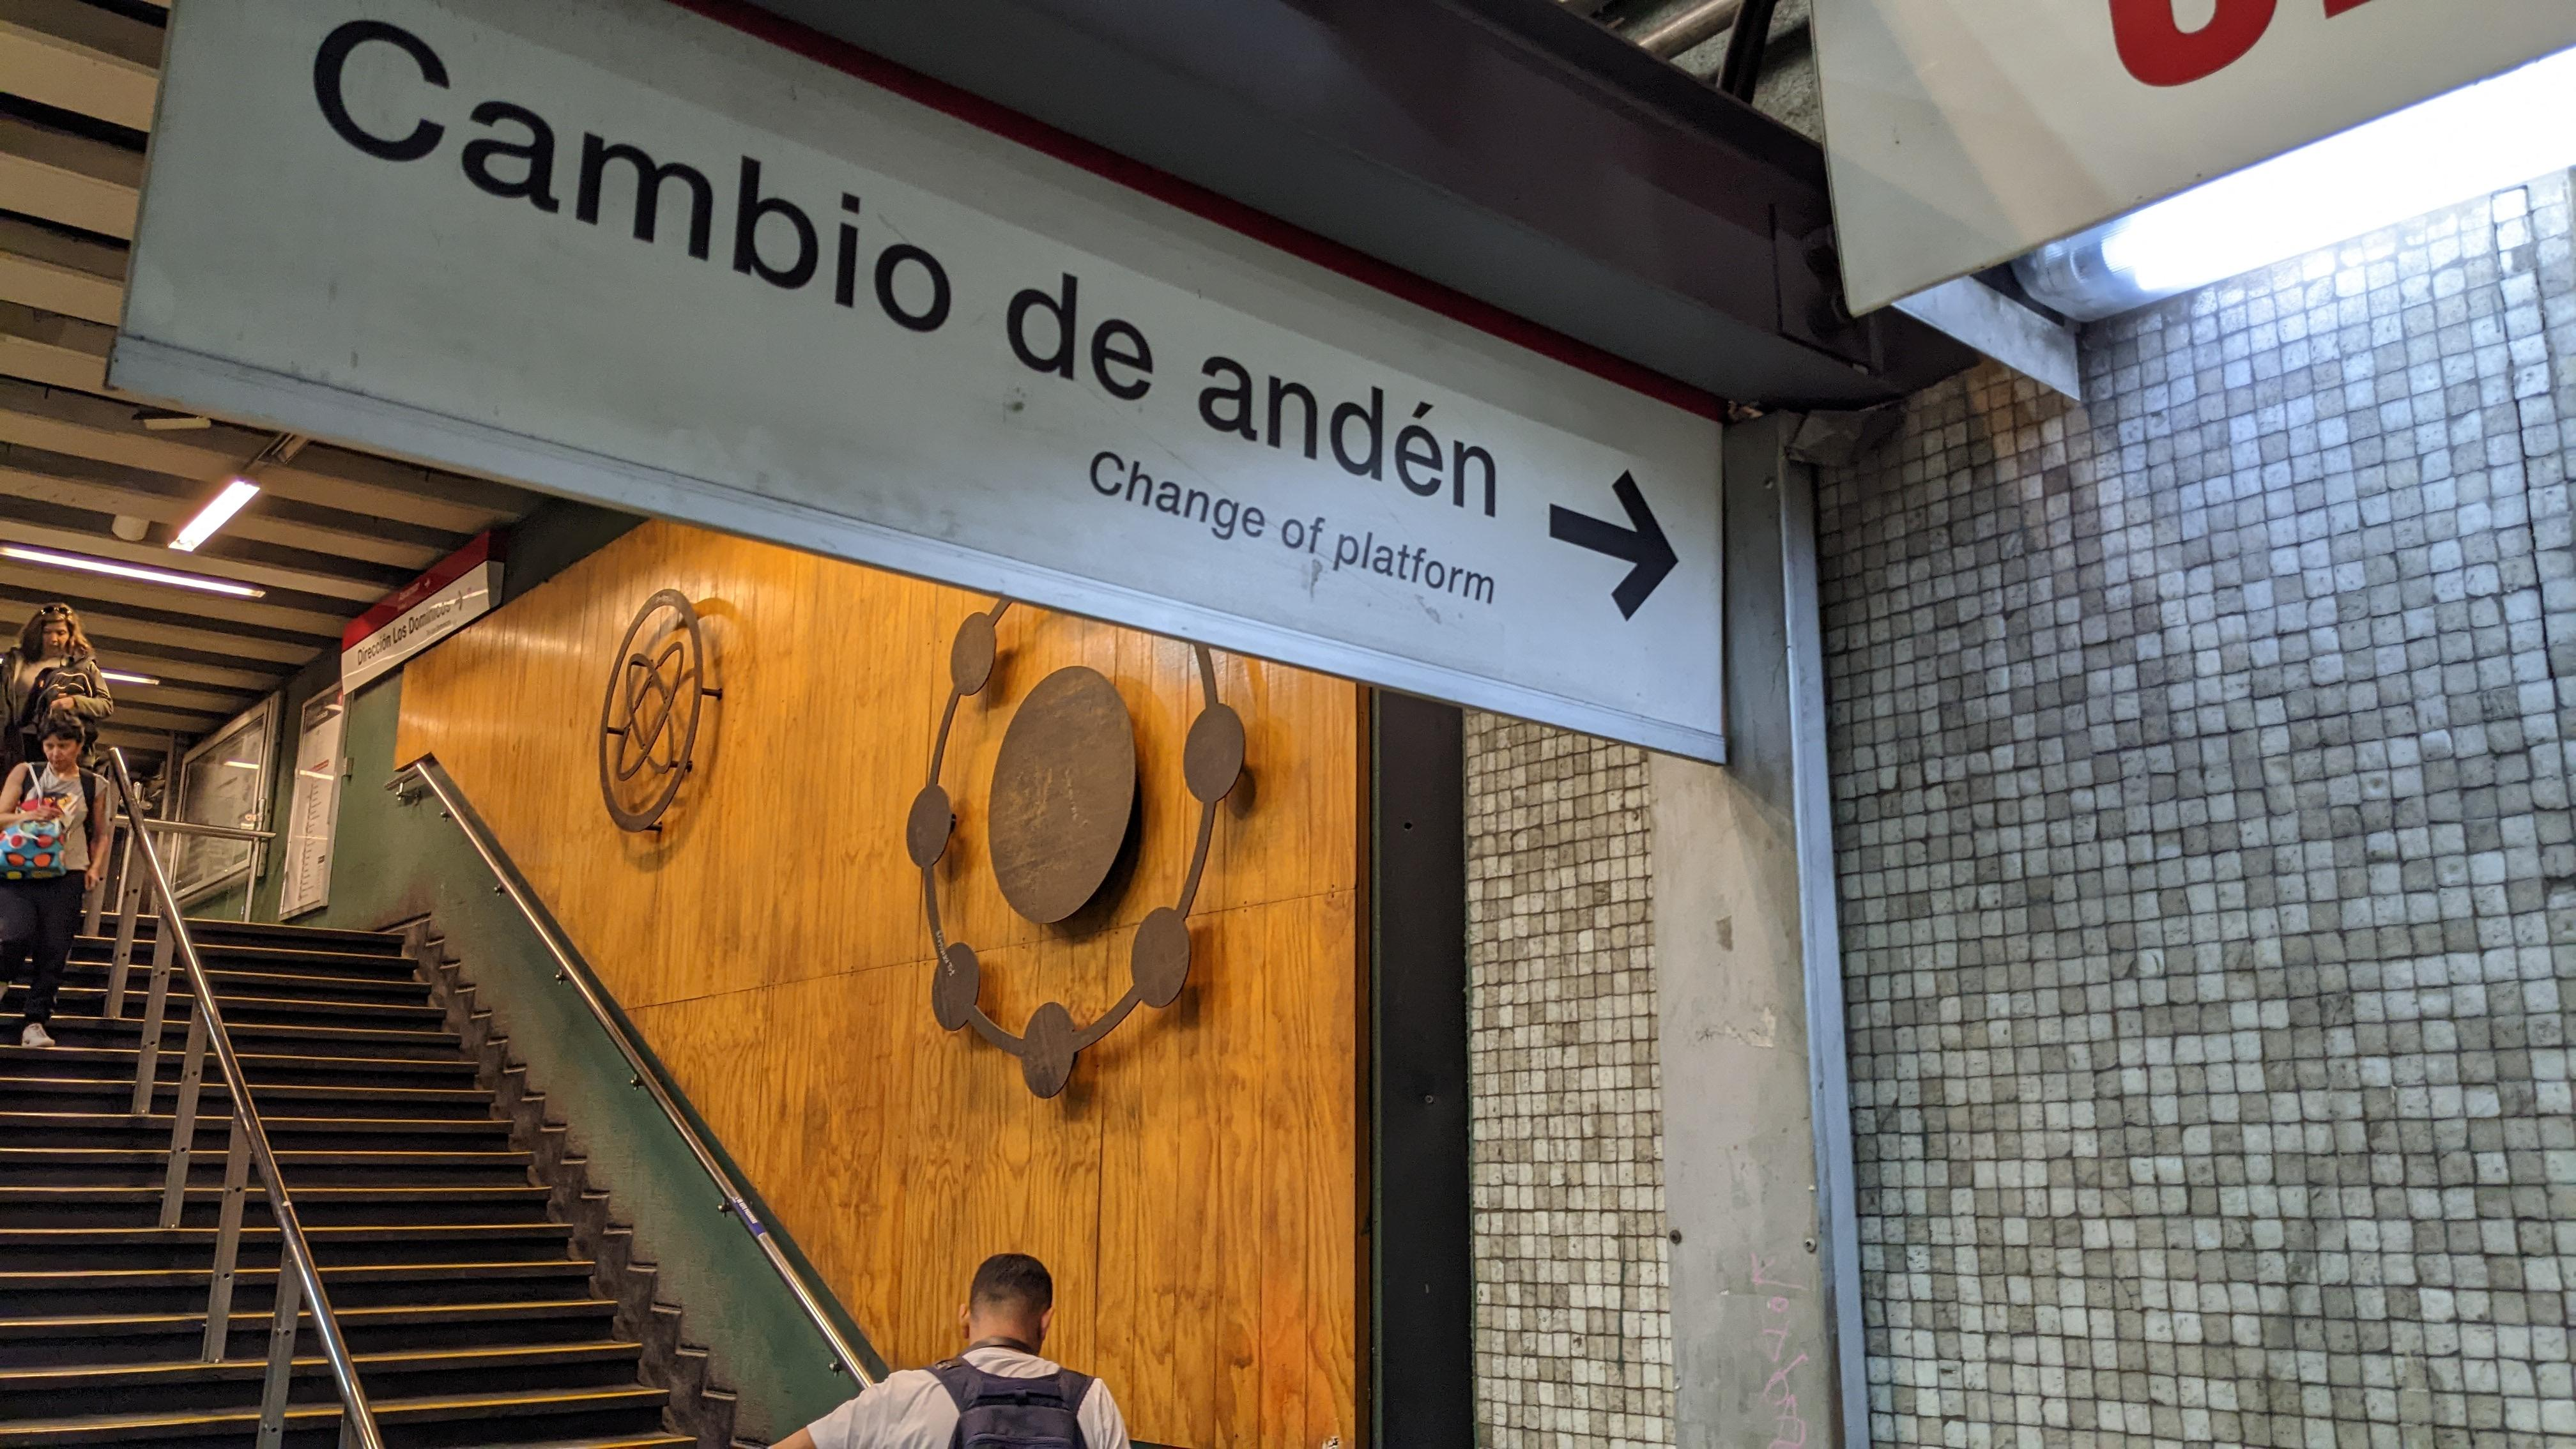right arrow: (1545, 464, 1684, 628), (453, 587, 467, 614)
